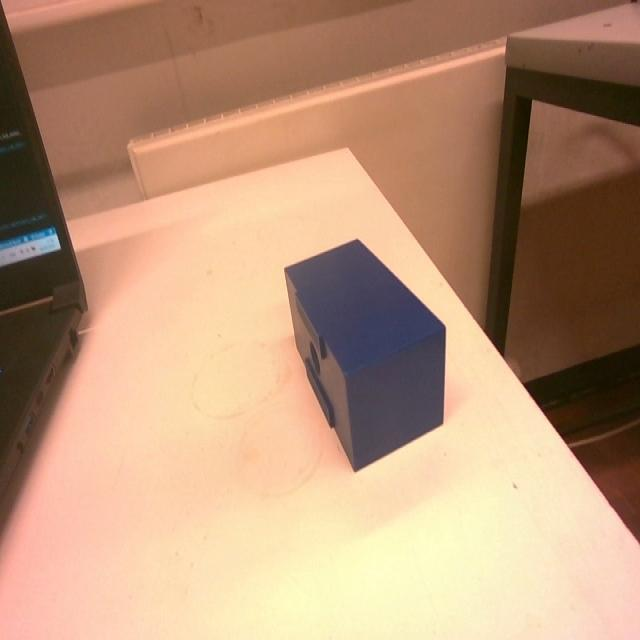Blue Cuboid: (281, 235, 447, 472)
